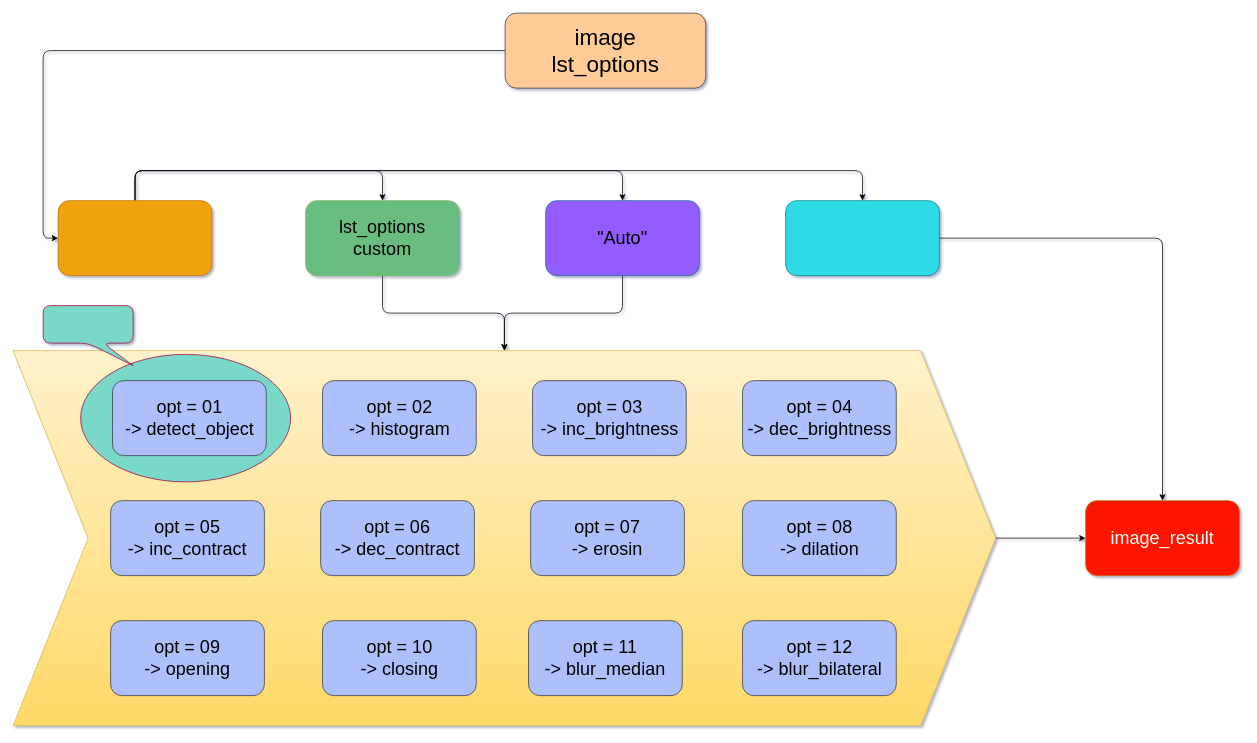
Some shapes in this 1257 by 743 pixel diagram are drawn without their labels. Here are the shapes that lost their labels. From the top down, the box of each, then its label:
(57, 200, 212, 276): check lst_options -> img_processing
(785, 200, 939, 276): "None"
(42, 305, 133, 366): Auto
